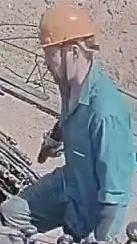gloves: (36, 130, 64, 163)
helmet: (37, 4, 98, 50)
vest: (51, 62, 137, 221)
